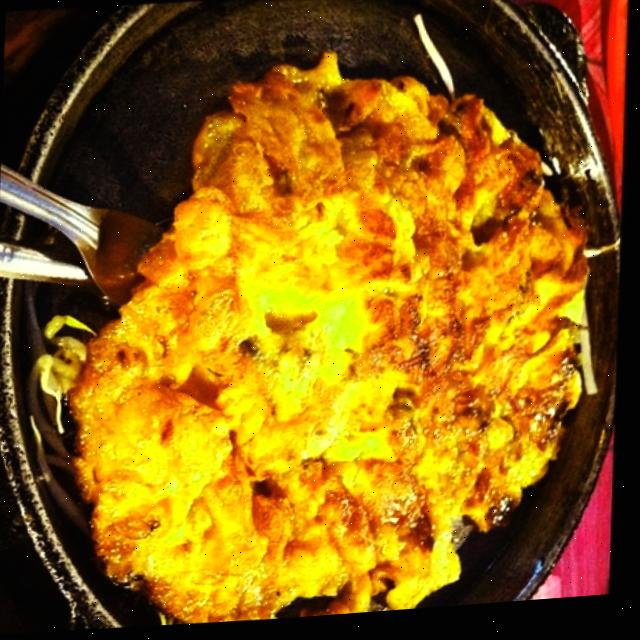炸货点心: (0, 0, 626, 640)
蛋糕甜品: (0, 0, 626, 640)
